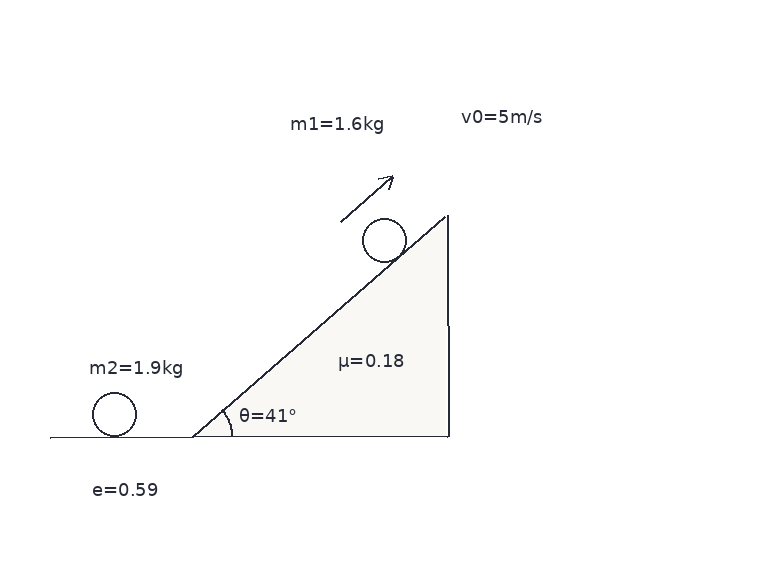ball: (360, 216, 408, 264), (90, 390, 138, 438)
ramp: (190, 214, 448, 438)
